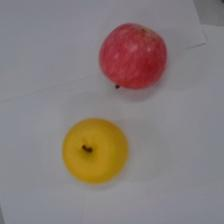red: (99, 24, 167, 90)
yellow: (63, 118, 127, 184)
